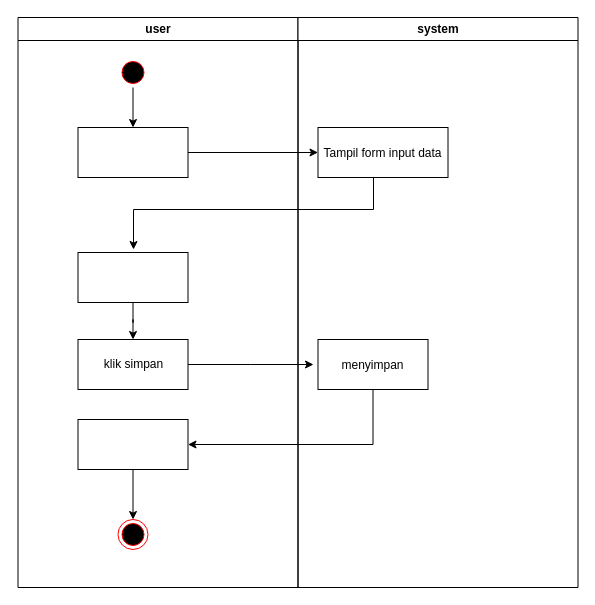
The diagram is 595 pixels wide and 605 high, and some of its shapes have lost their labels. Each missing label, with the centre of its shape:
"halaman home" goes at (132,444).
"isi form" goes at (132,277).
"pilih menu edit" goes at (132,152).
